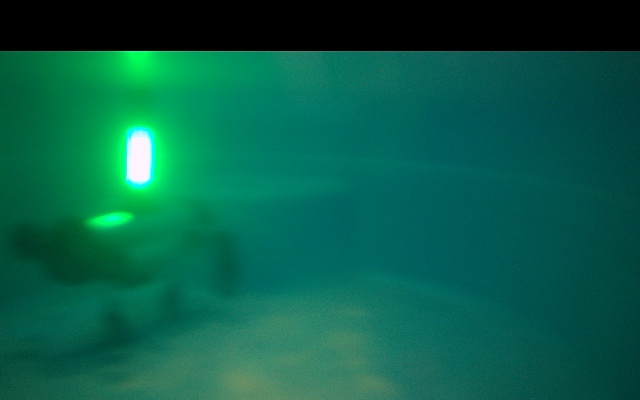green: (126, 121, 153, 198)
